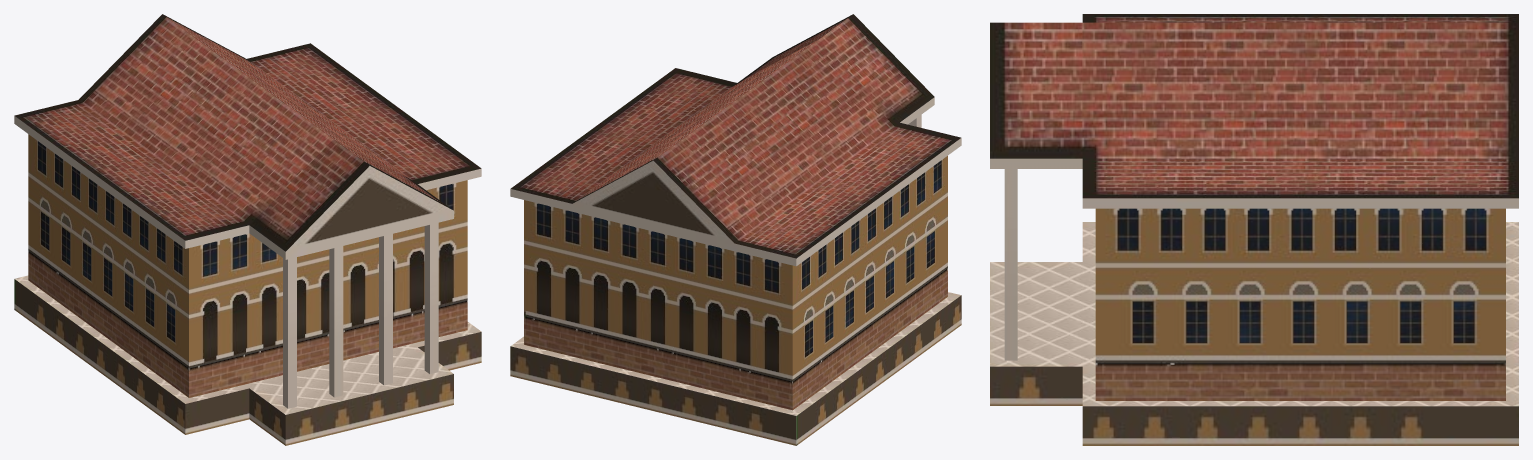
File: Museum.FBX
The picture shows the model from 3 angles, left to right: view 1: azimuth 30°, elevation 25°; view 2: azimuth 150°, elevation 25°; view 3: azimuth 270°, elevation 25°; orthographic projection. The views are drawn at different scales.
Visible parts, largest first — view 1: Museum; view 2: Museum; view 3: Museum.
Boxes of the visible parts, bbox=[...] form: Museum: bbox=[14, 14, 481, 445]; Museum: bbox=[510, 14, 961, 445]; Museum: bbox=[990, 14, 1518, 445].
Bounding box in the file's own units: 56.06 × 46.95 × 67.96.
1 material, 1 textured.
